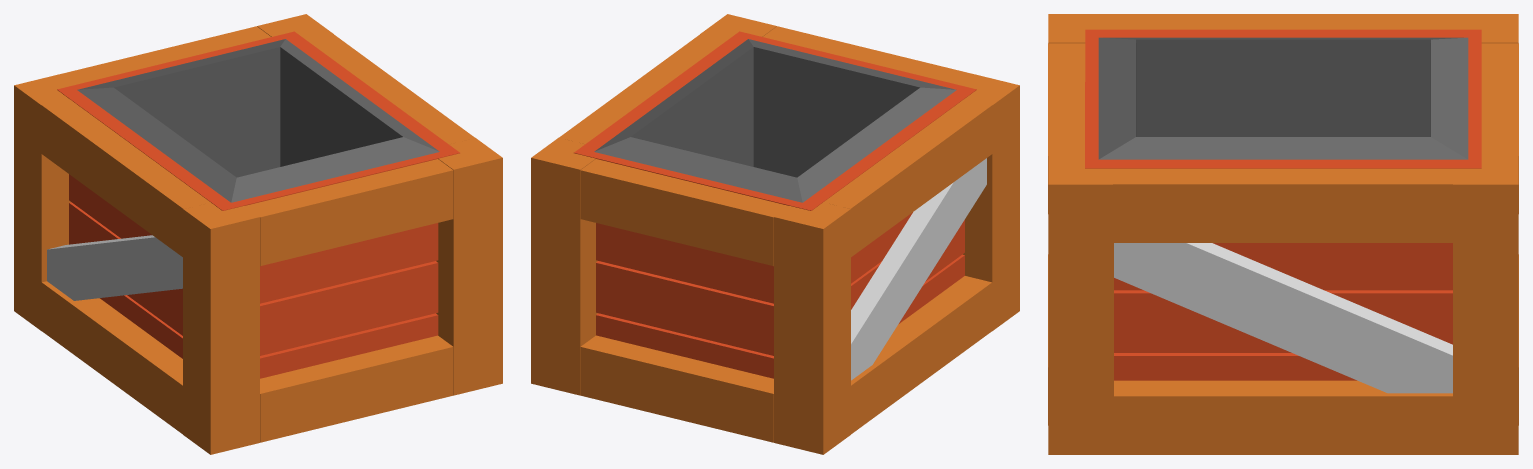
The model's file is BOTEDEBASURA (2).fbx.
The picture shows the model from 3 angles, left to right: view 1: azimuth 30°, elevation 25°; view 2: azimuth 150°, elevation 25°; view 3: azimuth 270°, elevation 25°; orthographic projection. The views are drawn at different scales.
Visible parts, largest first — view 1: Cube, Cube.009, Cube.011, Cube.010, Cube.005, Cube.012; view 2: Cube, Cube.011, Cube.009, Cube.010, Cube.005, Cube.012; view 3: Cube.005, Cube.011, Cube, Cube.009, Cube.012, Cube.010.
Boxes of the visible parts, x1,y1,x2,y2 form: Cube: [14, 14, 502, 454]; Cube.009: [57, 31, 459, 378]; Cube.011: [77, 39, 439, 202]; Cube.010: [64, 26, 453, 442]; Cube.005: [41, 34, 474, 434]; Cube.012: [47, 235, 182, 300]; Cube: [531, 14, 1019, 454]; Cube.011: [594, 39, 956, 202]; Cube.009: [574, 31, 976, 378]; Cube.010: [580, 26, 969, 442]; Cube.005: [559, 34, 992, 434]; Cube.012: [851, 158, 986, 380]; Cube.005: [1113, 14, 1452, 454]; Cube.011: [1098, 37, 1468, 159]; Cube: [1048, 14, 1518, 454]; Cube.009: [1085, 29, 1481, 380]; Cube.012: [1114, 243, 1452, 393]; Cube.010: [1048, 43, 1518, 425].
Bounding box in the file's own units: 162 × 125 × 189.
